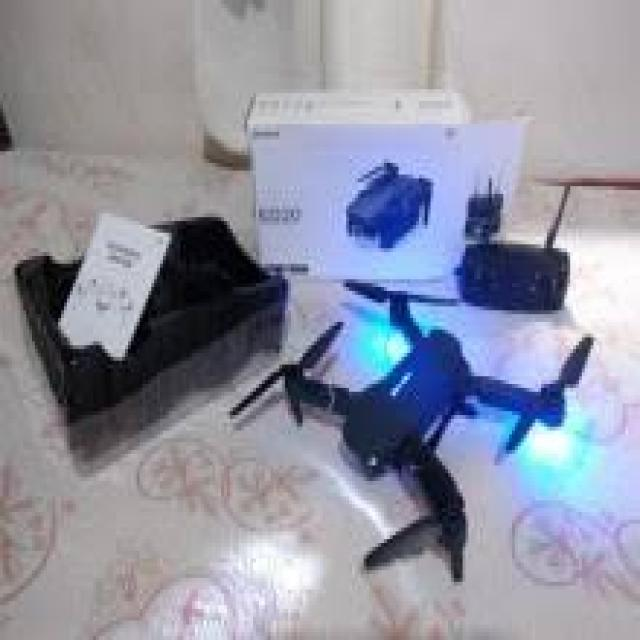drone: (218, 269, 590, 589)
